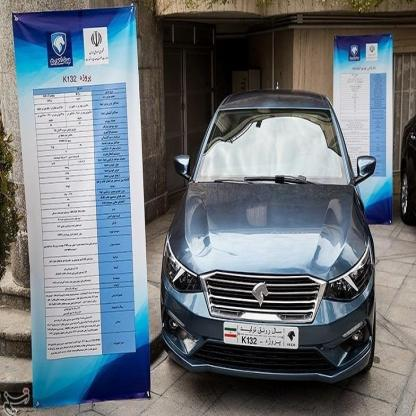Car: (158, 92, 376, 380), (395, 96, 416, 238)
